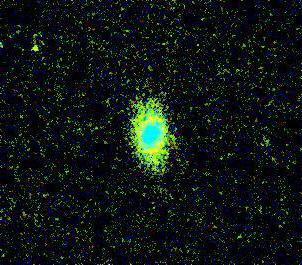star: (21, 31, 51, 61)
